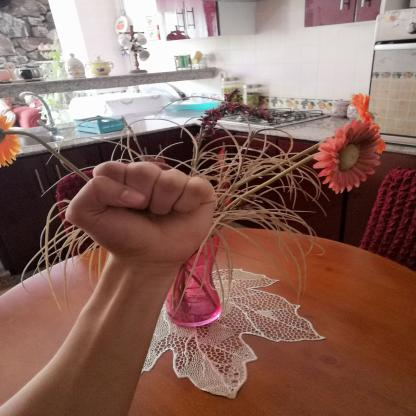SAD: (46, 146, 230, 280)
